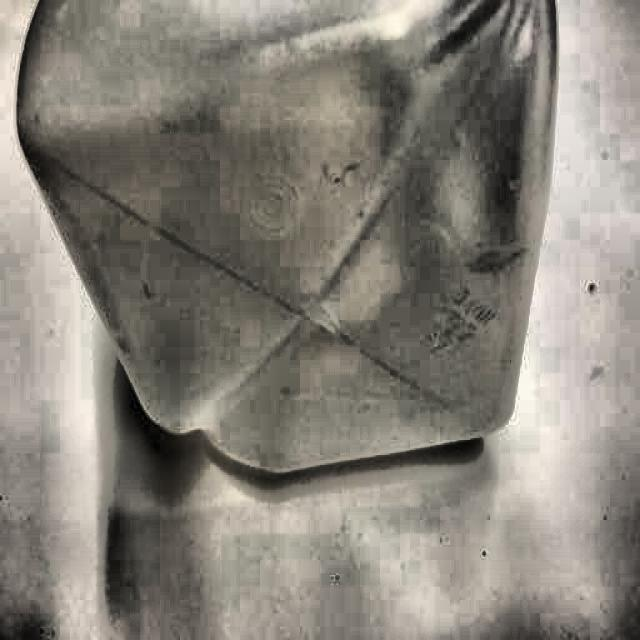plastic: (14, 3, 549, 461)
